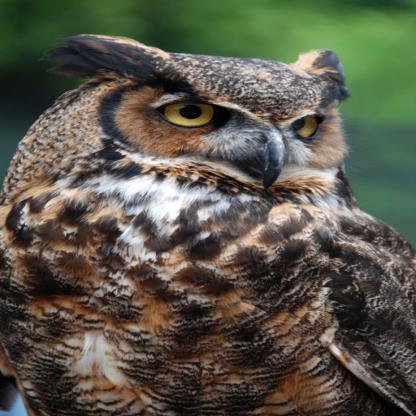owl: (8, 6, 416, 416)
